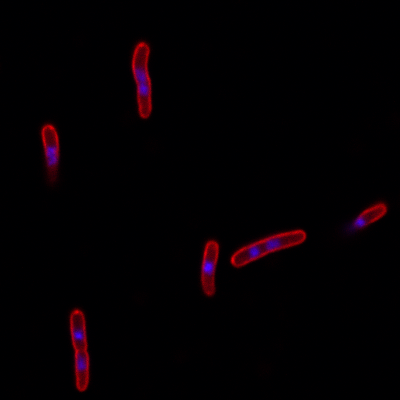Nalidixate: (230, 228, 308, 269), (68, 308, 93, 393), (129, 41, 155, 120), (200, 238, 220, 298)
Oblique: (39, 122, 63, 191), (349, 203, 388, 233)
